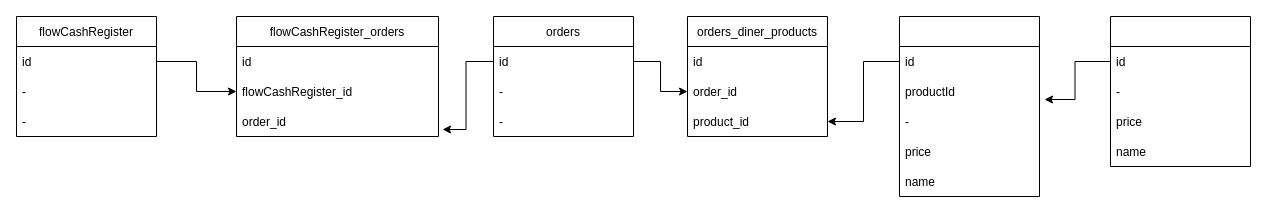
The diagram is 1267 pixels wide and 213 high, and some of its shapes have lost their labels. Each missing label, with the box of its shape:
diner_products: (898, 16, 1040, 196)
products: (1110, 16, 1250, 166)
